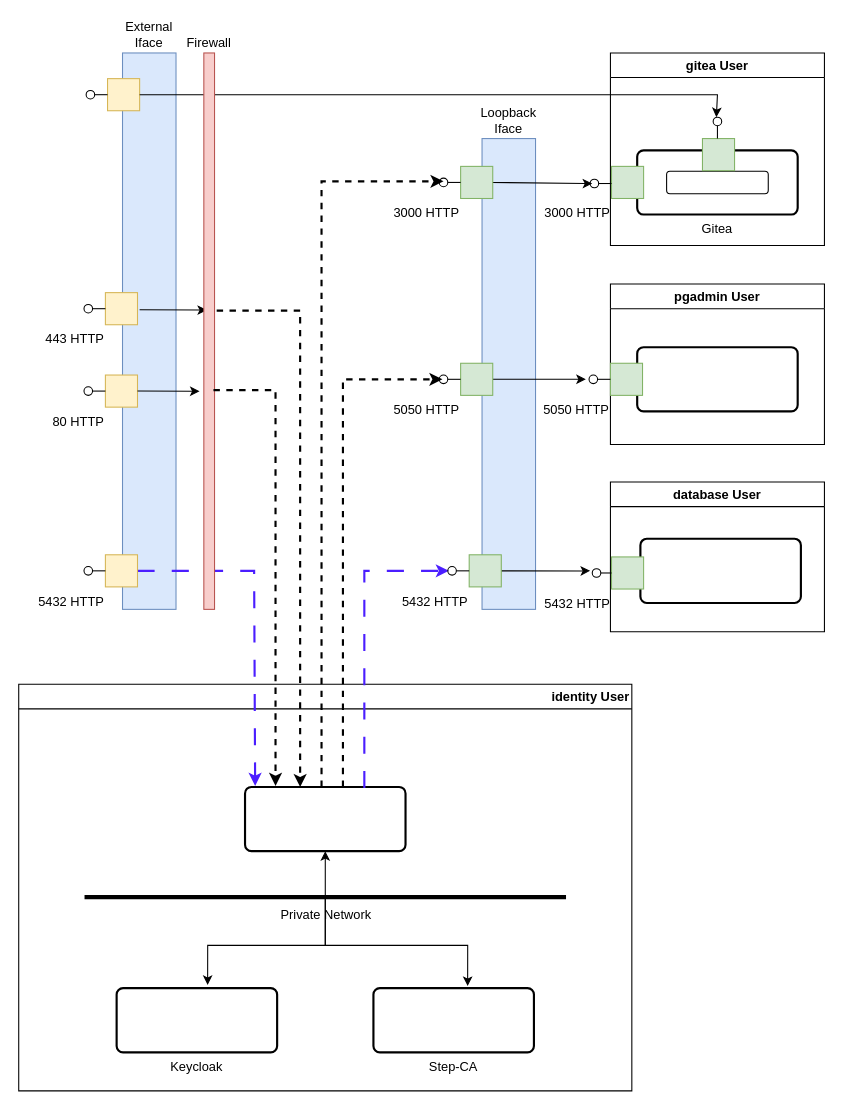
Some shapes in this 843 by 1110 pixel diagram are drawn without their labels. Each missing label, with the centre of its shape:
2222 TCP: point (123, 94)
pgAdmin: point (717, 379)
Postgresql: point (720, 570)
Revproxy 8080, 8443, 5432: point (324, 818)
SSH Server: point (717, 182)
